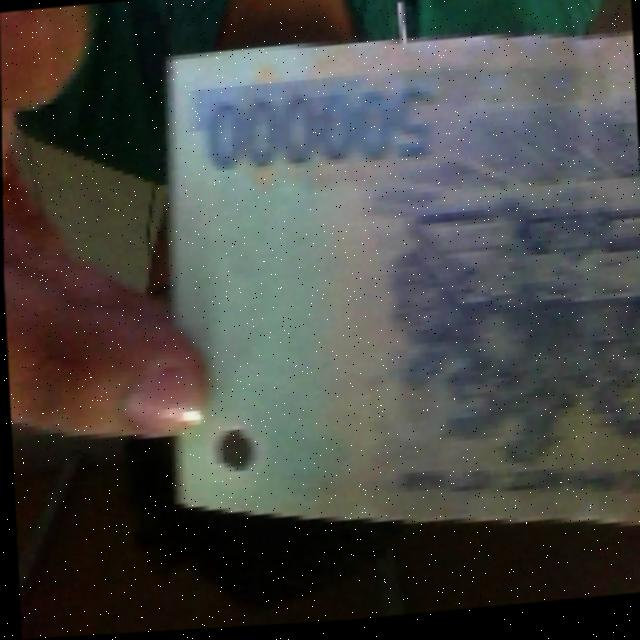500 000 VND: (147, 14, 640, 589)
